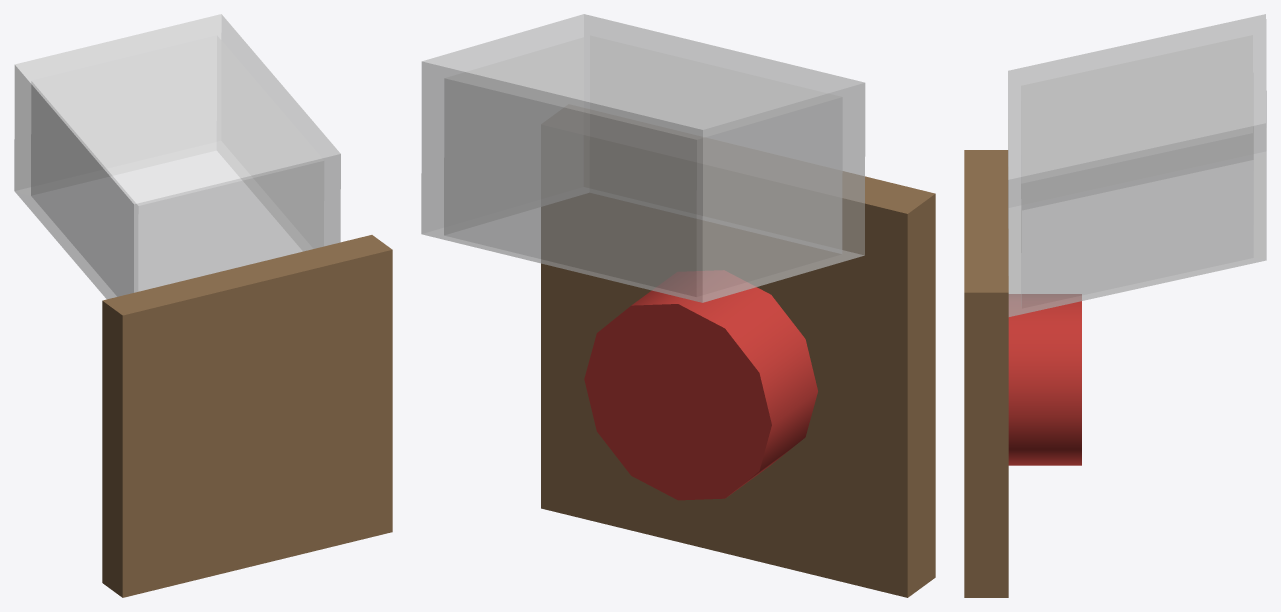
Rendered from SM_RedButton.fbx.
3 views of the same model, side by side, from view 1: azimuth 30°, elevation 25°; view 2: azimuth 150°, elevation 25°; view 3: azimuth 270°, elevation 25° (orthographic). The views are drawn at different scales.
Visible parts, largest first — view 1: buttonReset.002, buttonReset.001; view 2: buttonReset.001, buttonReset.002, buttonReset; view 3: buttonReset.001, buttonReset.002, buttonReset.
Boxes of the visible parts, x1=… form: buttonReset.002: x1=102, y1=235, x2=392, y2=597; buttonReset.001: x1=14, y1=14, x2=340, y2=299; buttonReset.001: x1=421, y1=14, x2=865, y2=302; buttonReset.002: x1=541, y1=171, x2=935, y2=597; buttonReset: x1=584, y1=270, x2=817, y2=500; buttonReset.001: x1=1008, y1=14, x2=1266, y2=316; buttonReset.002: x1=964, y1=150, x2=1008, y2=597; buttonReset: x1=1008, y1=294, x2=1081, y2=465.
Size of the model in its own units: 24.14 by 36.21 by 21.67.
